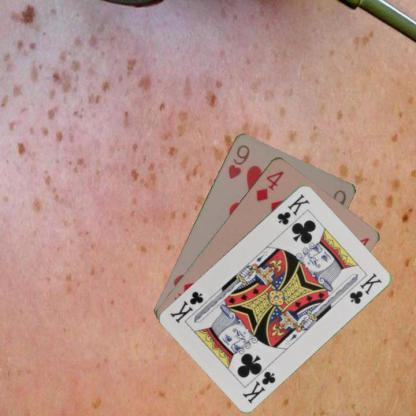4d: (253, 168, 285, 202)
9h: (226, 142, 252, 180)
Kc: (239, 368, 277, 404), (274, 191, 311, 226)
